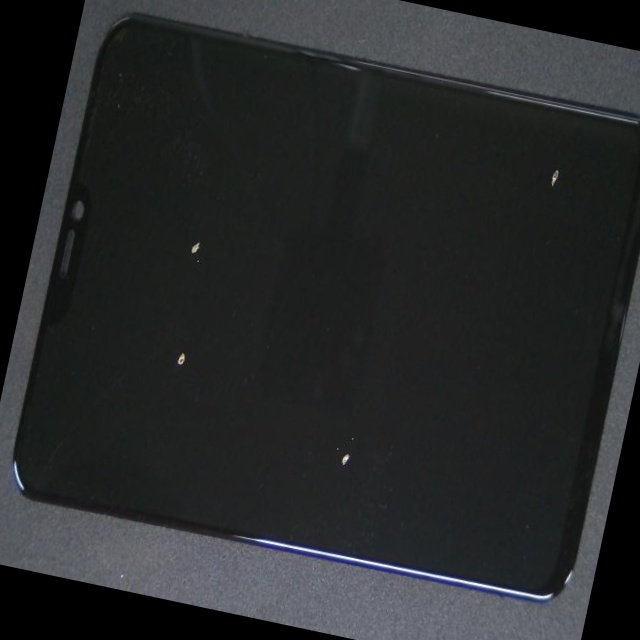stain: (127, 176, 546, 640), (250, 30, 640, 306), (79, 138, 327, 536), (86, 42, 297, 395)
